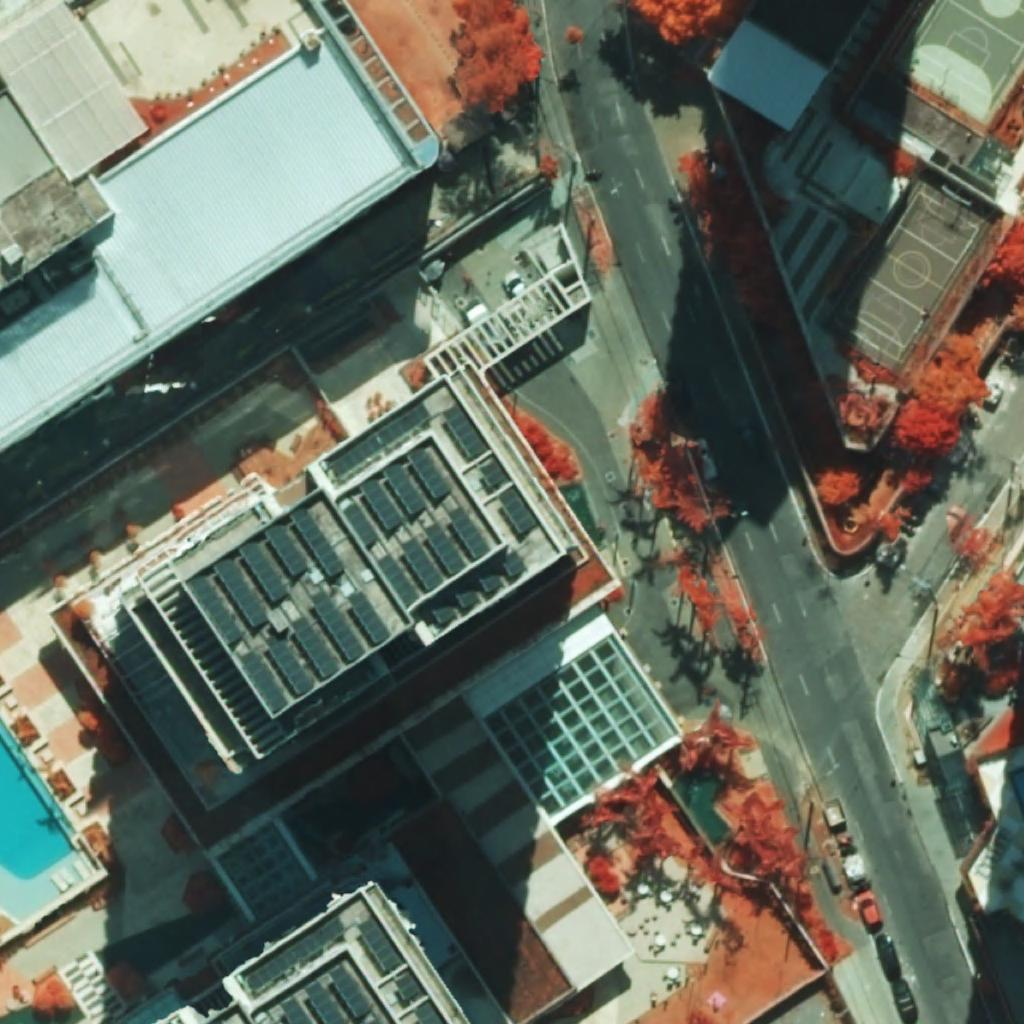pool: (0, 719, 77, 880), (0, 1005, 86, 1024), (1008, 766, 1024, 816)
